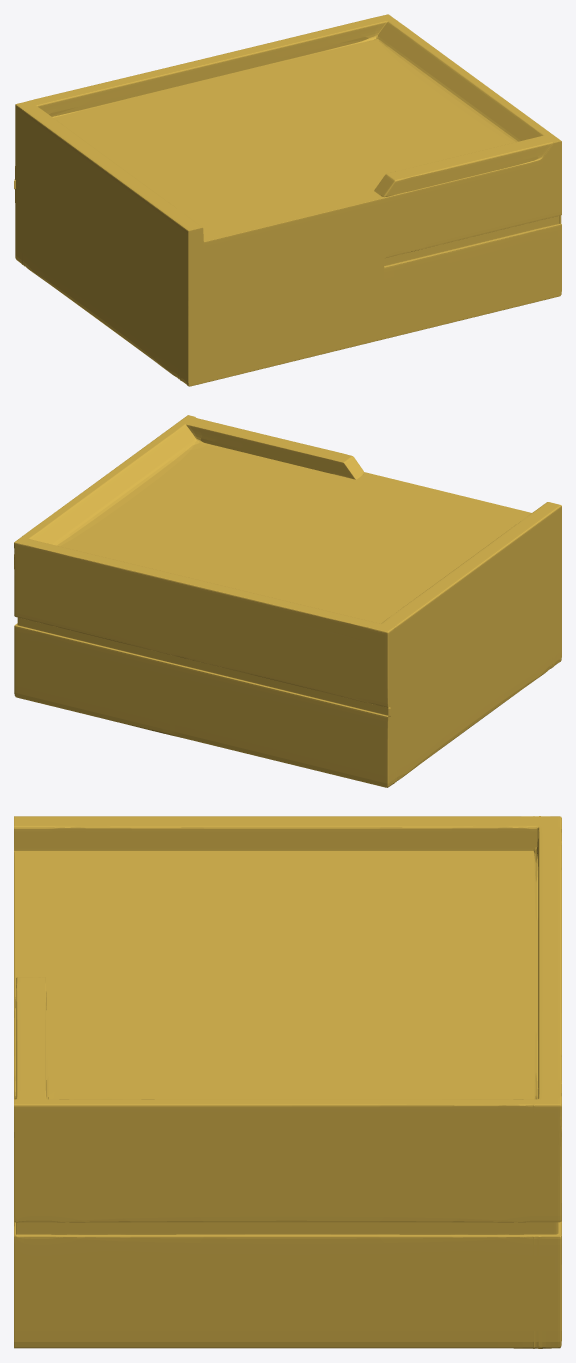
File: Platform.fbx
3 views of the same model, one above another, from view 1: azimuth 30°, elevation 25°; view 2: azimuth 150°, elevation 25°; view 3: azimuth 270°, elevation 25° (orthographic). The views are drawn at different scales.
Visible parts, largest first — view 1: Cube; view 2: Cube; view 3: Cube.
Boxes of the visible parts, x1=… form: Cube: x1=14, y1=14, x2=561, y2=386; Cube: x1=14, y1=415, x2=561, y2=787; Cube: x1=14, y1=816, x2=561, y2=1348.
Bounding box in the file's own units: 250 × 99.25 × 200.
